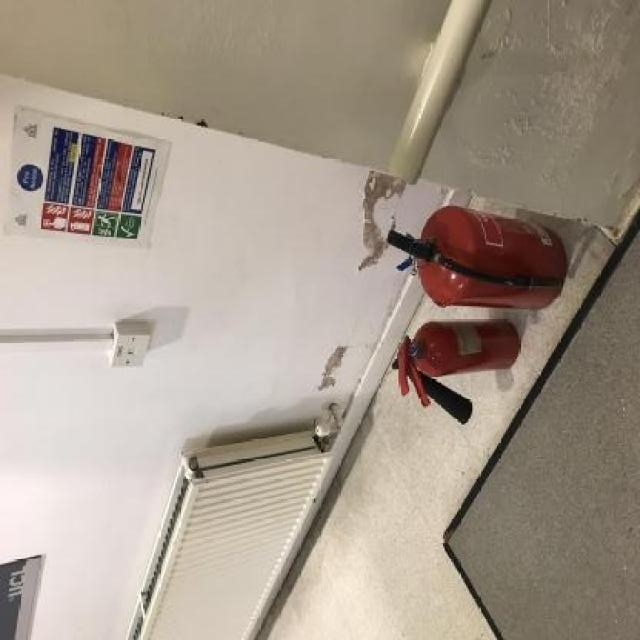fire extinguisher: (387, 206, 567, 312), (392, 319, 519, 424)
